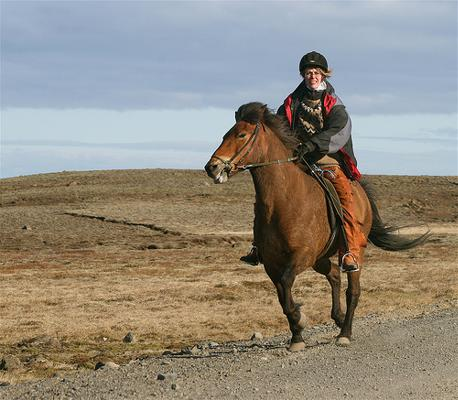person: (237, 52, 363, 275)
